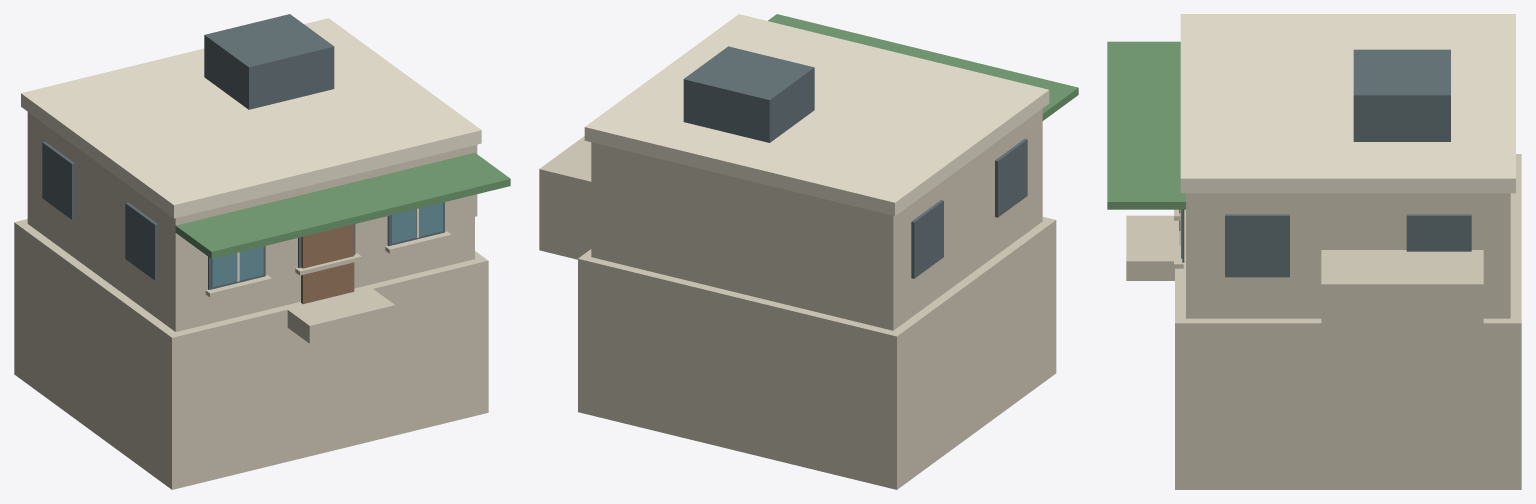
File: stone-0.glb
The picture shows the model from 3 angles, left to right: view 1: azimuth 30°, elevation 25°; view 2: azimuth 150°, elevation 25°; view 3: azimuth 270°, elevation 25°; orthographic projection. The views are drawn at different scales.
Size of the model in its own units: 8.7 by 7.25 by 7.65.
